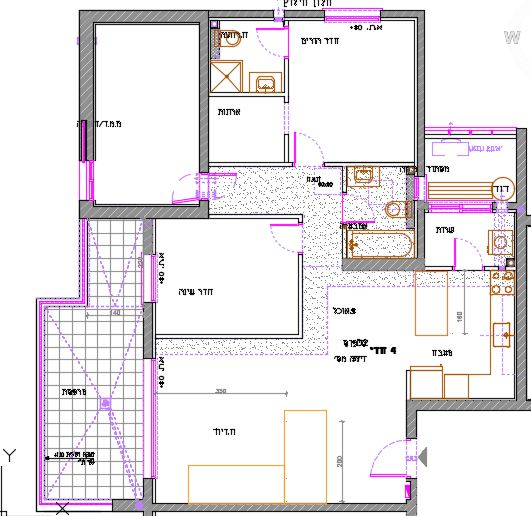door: (362, 430, 398, 479), (251, 21, 281, 64), (292, 123, 327, 159), (265, 221, 294, 255), (448, 236, 485, 260)
wall: (400, 396, 522, 437), (515, 124, 531, 411), (518, 133, 525, 408), (112, 505, 415, 511), (80, 9, 207, 22), (79, 6, 93, 122), (89, 207, 202, 217), (417, 12, 424, 165), (201, 27, 207, 167), (342, 260, 418, 270), (144, 306, 152, 352), (419, 213, 425, 269)
